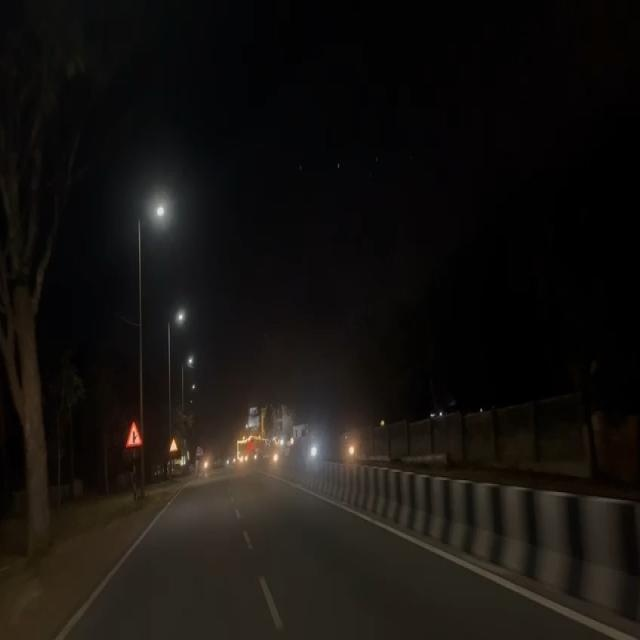bien_nguy_hiem: (124, 416, 143, 452)
